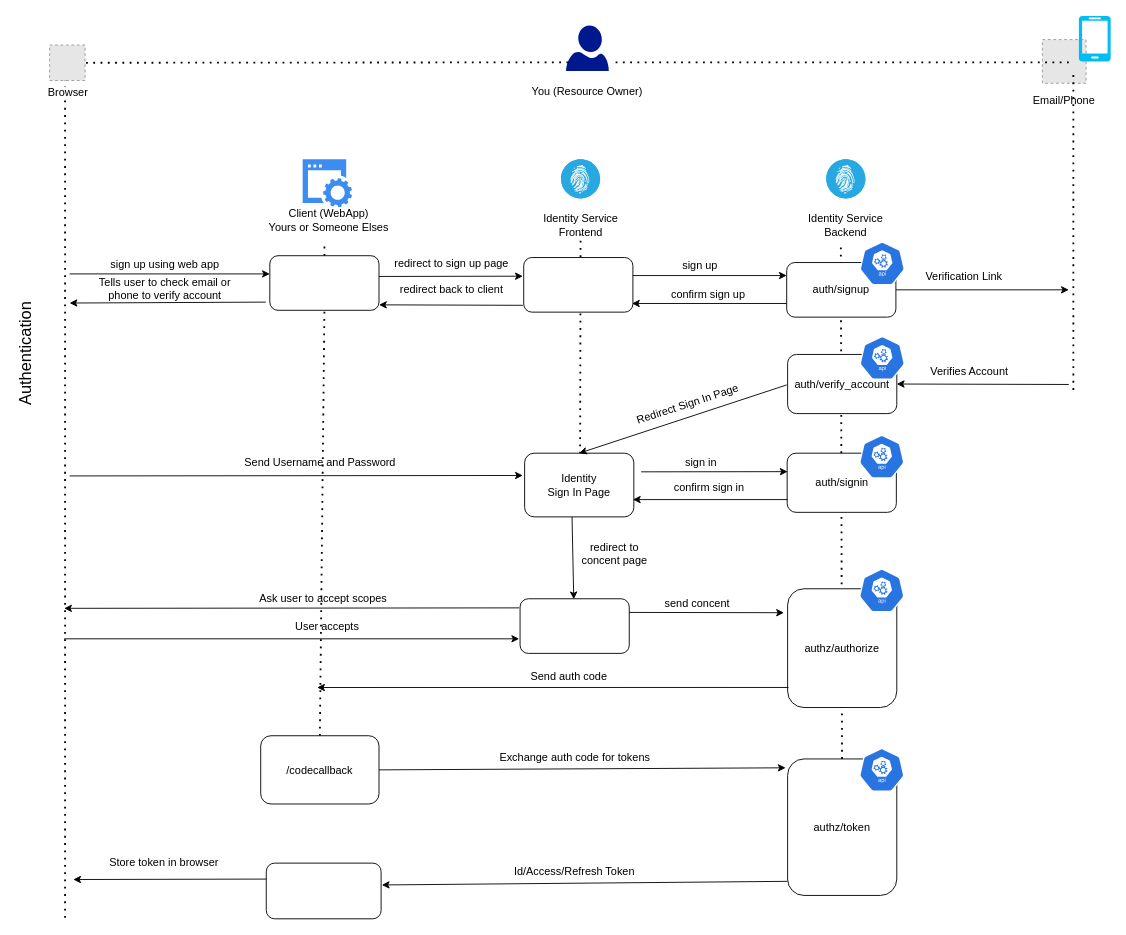
This 1126x935 diagram has some shape labels left out. Grey dashed boxes stand in for pictures. Each missing label, with the centre of its shape:
"/home" goes at (323,890).
"Concent Page" goes at (574,625).
"Identity Signup Page" goes at (578,284).
"Local Sign Up Button" goes at (324,282).
